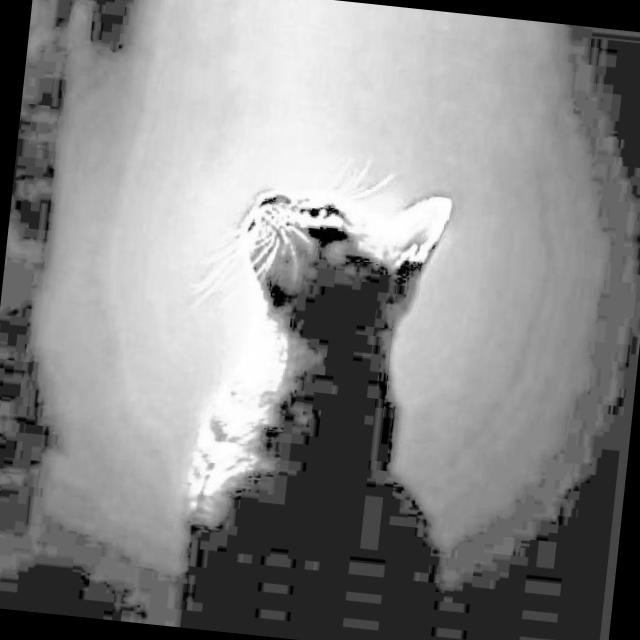Cat: (167, 159, 468, 598)
